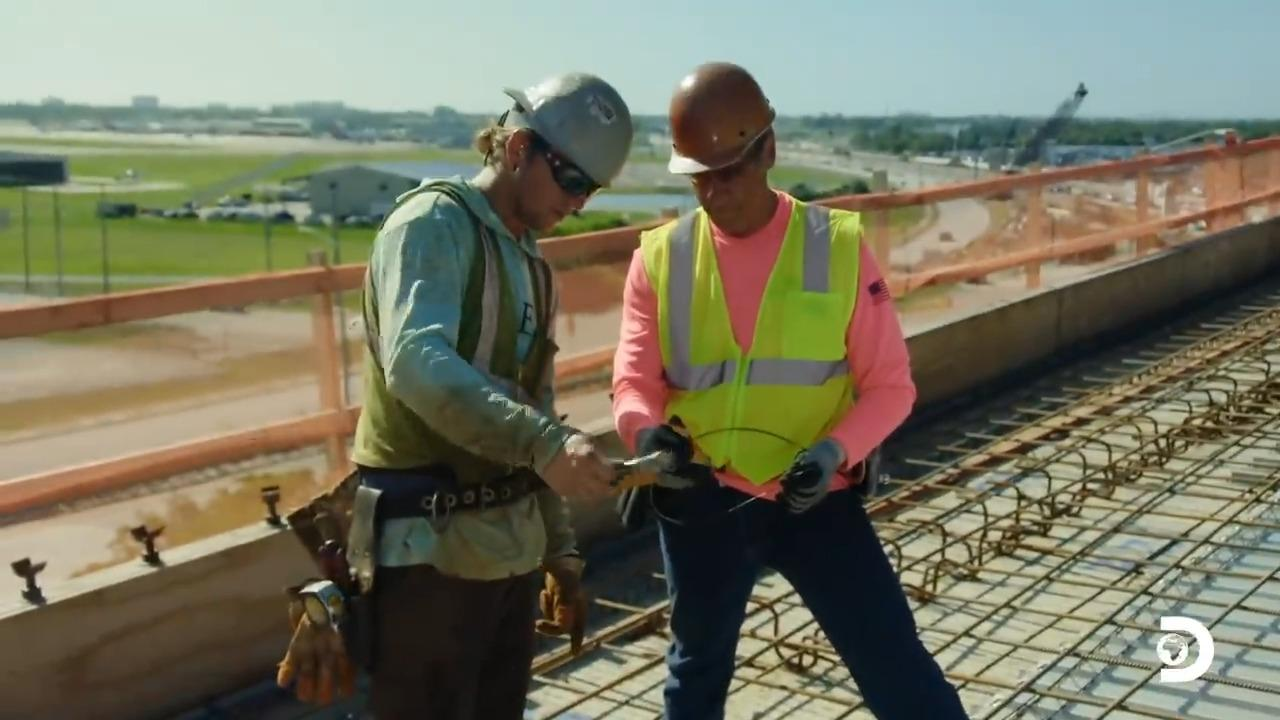Gloves: (529, 555, 589, 651), (639, 418, 704, 491), (770, 450, 847, 511)
Helmet: (498, 70, 633, 189), (666, 60, 775, 175)
Person: (610, 60, 970, 719), (276, 70, 633, 719)
Safety Vest: (373, 213, 543, 482), (663, 234, 848, 457)
bare-arms: (542, 437, 620, 507)
